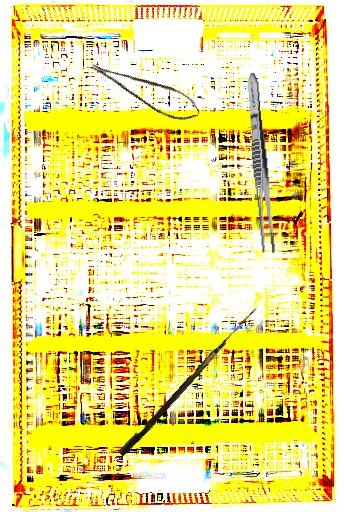Dressing Forceps: (242, 72, 279, 255)
Hook Surgical: (118, 301, 257, 460)
Micro Scissor: (88, 44, 205, 132)
